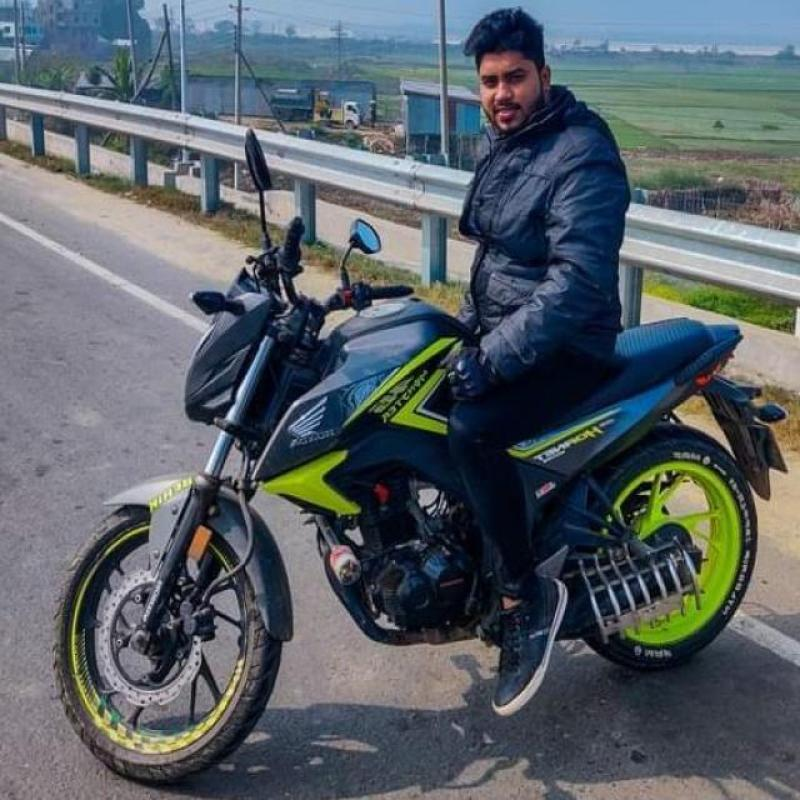nohelmet: (455, 5, 575, 136)
